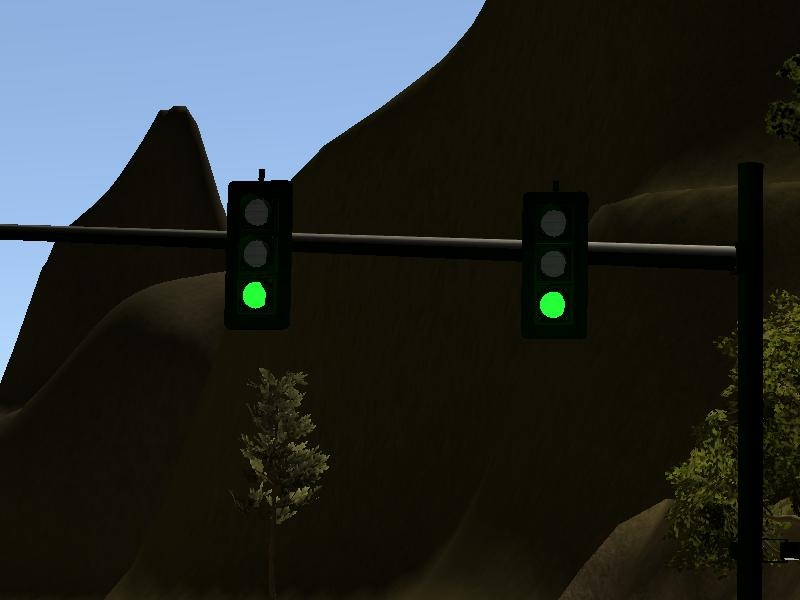green: (510, 176, 592, 346), (220, 167, 296, 331)
